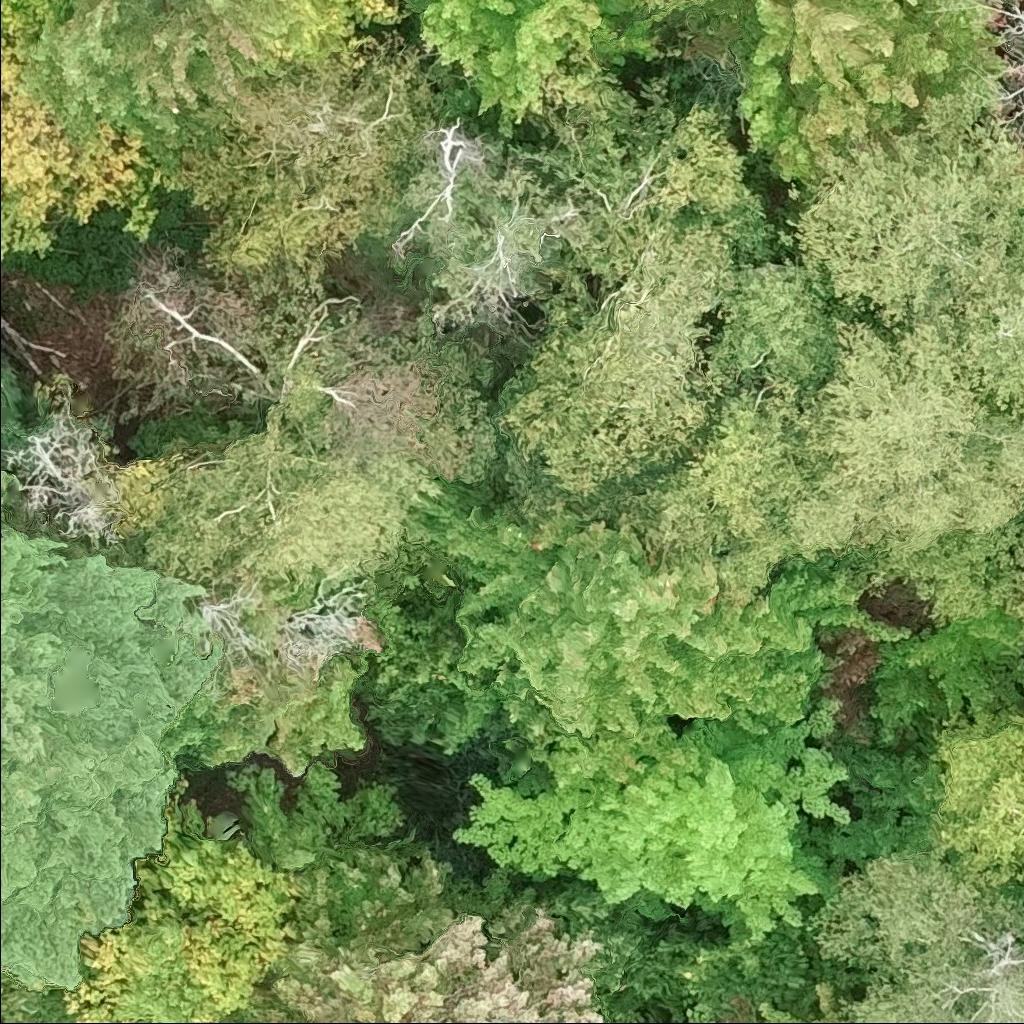crown: (489, 70, 800, 519), (442, 504, 873, 785), (0, 467, 226, 996), (451, 699, 853, 946), (223, 850, 610, 1023), (163, 30, 431, 272), (779, 313, 1023, 565), (705, 0, 1015, 189), (781, 90, 1023, 327), (579, 377, 809, 624), (18, 0, 358, 167), (67, 784, 304, 1023), (142, 403, 445, 588), (0, 32, 169, 262), (807, 847, 1023, 1023), (417, 0, 666, 135), (162, 655, 367, 776), (867, 610, 1023, 746), (702, 255, 840, 398), (920, 702, 1023, 890), (937, 199, 1023, 413), (0, 404, 125, 551), (720, 977, 846, 1023), (0, 974, 76, 1023), (624, 0, 727, 26), (0, 0, 52, 44), (334, 0, 409, 30), (1019, 514, 1023, 520)
